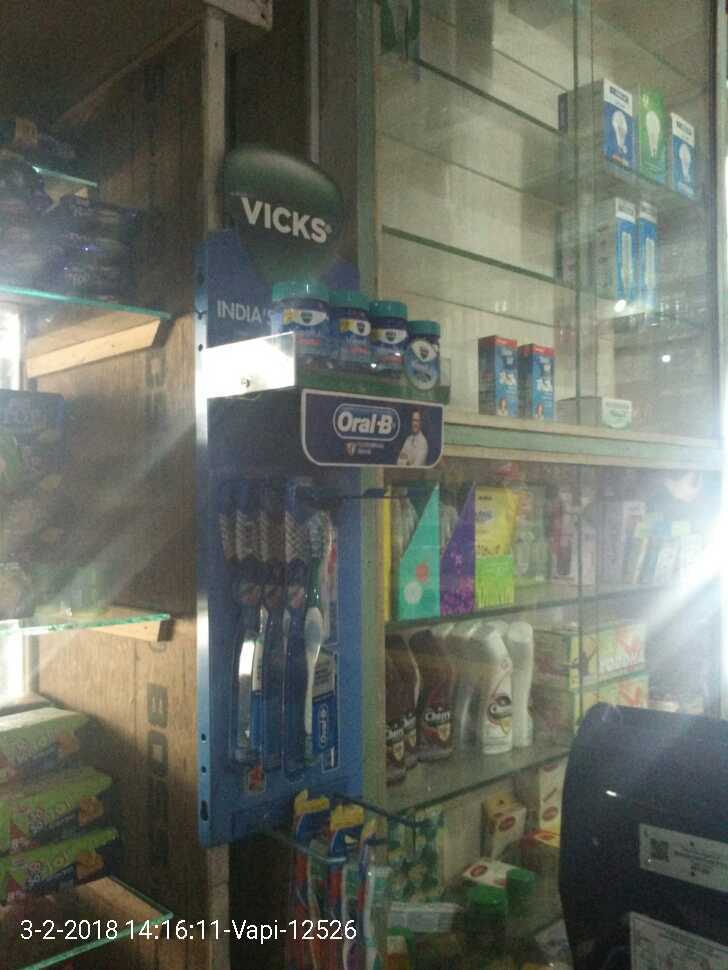pharmacy: (216, 486, 345, 779), (260, 283, 448, 401)
